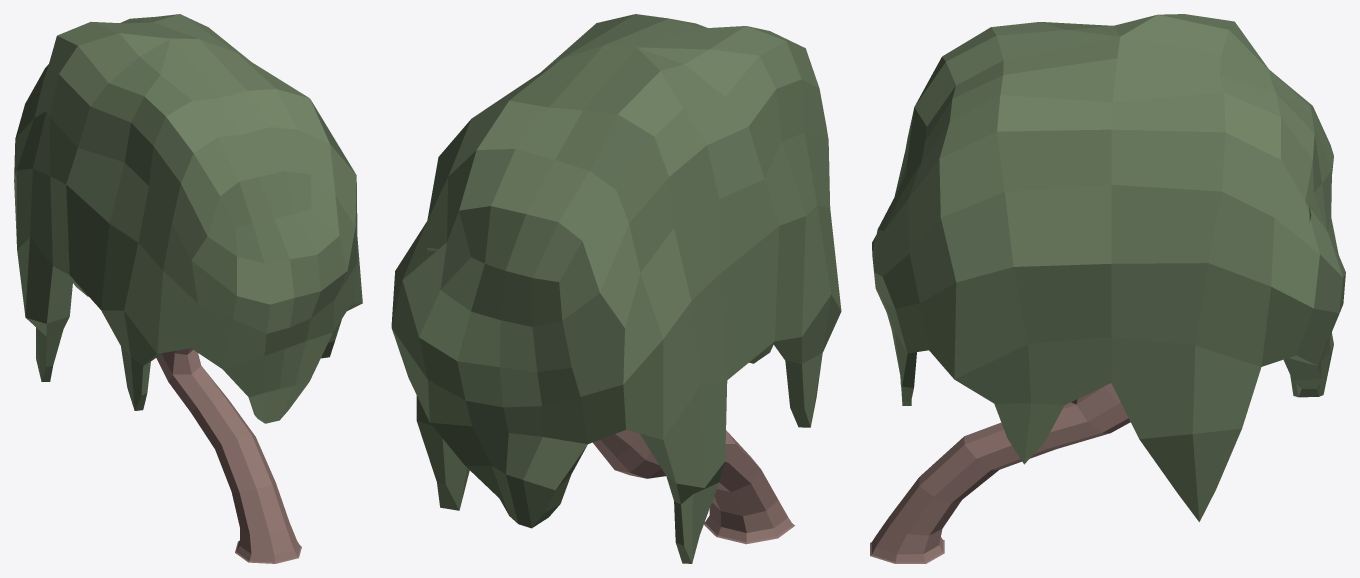
3 views of the same model, side by side, from view 1: azimuth 30°, elevation 25°; view 2: azimuth 150°, elevation 25°; view 3: azimuth 270°, elevation 25° (orthographic). The views are drawn at different scales.
Visible parts, largest first — view 1: Visual; view 2: Visual; view 3: Visual.
Part boxes in pixels (x1=…): Visual: x1=14, y1=14, x2=362, y2=563; Visual: x1=391, y1=14, x2=841, y2=563; Visual: x1=870, y1=14, x2=1345, y2=563.
Bounding box in the file's own units: 7.85 × 14 × 11.81.
